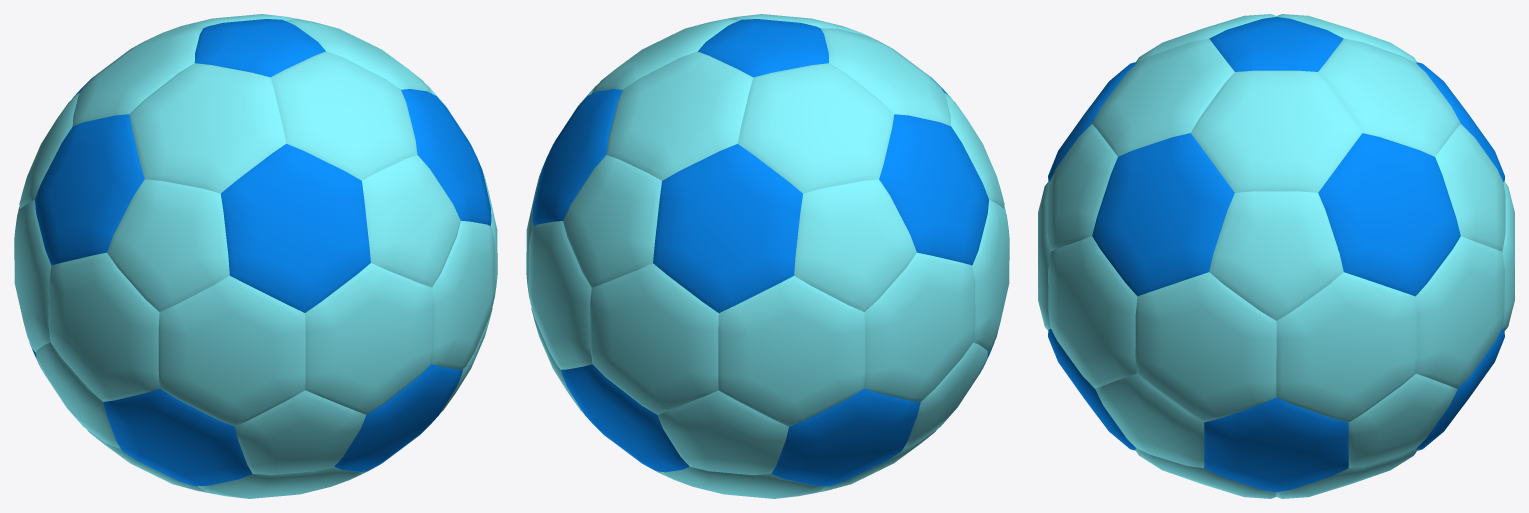
3 renders of one model, left to right at view 1: azimuth 30°, elevation 25°; view 2: azimuth 150°, elevation 25°; view 3: azimuth 270°, elevation 25°, orthographic.
Visible parts, largest first — view 1: Cube_L1_15, Cube_L1_9, Cube_L1_11, Cube_L1_21, Cube_L1_23, Cube_L1_1, Cube_L1_4, Cube_L1_3, Cube_L1_27, Cube_L1_6, Cube_L1_13, Cube_L1_33 (+11 smaller); view 2: Cube_L1_16, Cube_L1_8, Cube_L1_12, Cube_L1_20, Cube_L1_24, Cube_L1, Cube_L1_5, Cube_L1_3, Cube_L1_28, Cube_L1_7, Cube_L1_14, Cube_L1_32 (+11 smaller); view 3: Cube_L1_41, Cube_L1_40, Cube_L1_35, Cube_L1_34, Cube_L1_31, Cube_L1_39, Cube_L1_38, Cube_L1_32, Cube_L1_33, Cube_L1_23, Cube_L1_24, Cube_L1_36 (+14 smaller).
Boxes of the visible parts, <box> form: Cube_L1_15: <box>221,143,370,312</box>; Cube_L1_9: <box>158,276,305,426</box>; Cube_L1_11: <box>129,63,286,193</box>; Cube_L1_21: <box>305,263,433,414</box>; Cube_L1_23: <box>270,51,417,180</box>; Cube_L1_1: <box>48,252,159,401</box>; Cube_L1_4: <box>107,179,229,311</box>; Cube_L1_3: <box>35,114,144,265</box>; Cube_L1_27: <box>362,155,460,287</box>; Cube_L1_6: <box>103,388,252,486</box>; Cube_L1_13: <box>235,390,366,474</box>; Cube_L1_33: <box>431,220,495,369</box>; Cube_L1_16: <box>653,144,802,312</box>; Cube_L1_8: <box>718,276,865,426</box>; Cube_L1_12: <box>737,63,894,193</box>; Cube_L1_20: <box>590,263,718,414</box>; Cube_L1_24: <box>606,51,753,180</box>; Cube_L1: <box>864,252,975,401</box>; Cube_L1_5: <box>794,179,916,311</box>; Cube_L1_3: <box>879,114,988,265</box>; Cube_L1_28: <box>563,155,661,287</box>; Cube_L1_7: <box>771,388,920,486</box>; Cube_L1_14: <box>657,390,788,474</box>; Cube_L1_32: <box>528,221,592,369</box>; Cube_L1_41: <box>1135,272,1276,422</box>; Cube_L1_40: <box>1276,272,1417,422</box>; Cube_L1_35: <box>1318,133,1460,296</box>; Cube_L1_34: <box>1092,133,1234,296</box>; Cube_L1_31: <box>1191,70,1362,192</box>; Cube_L1_39: <box>1209,191,1343,320</box>; Cube_L1_38: <box>1204,397,1348,492</box>; Cube_L1_32: <box>1415,236,1504,388</box>; Cube_L1_33: <box>1048,236,1137,388</box>; Cube_L1_23: <box>1092,38,1234,156</box>; Cube_L1_24: <box>1318,38,1460,156</box>; Cube_L1_36: <box>1095,373,1204,467</box>.
Size of the model in its own units: 10.65 by 10.6 by 10.49.
